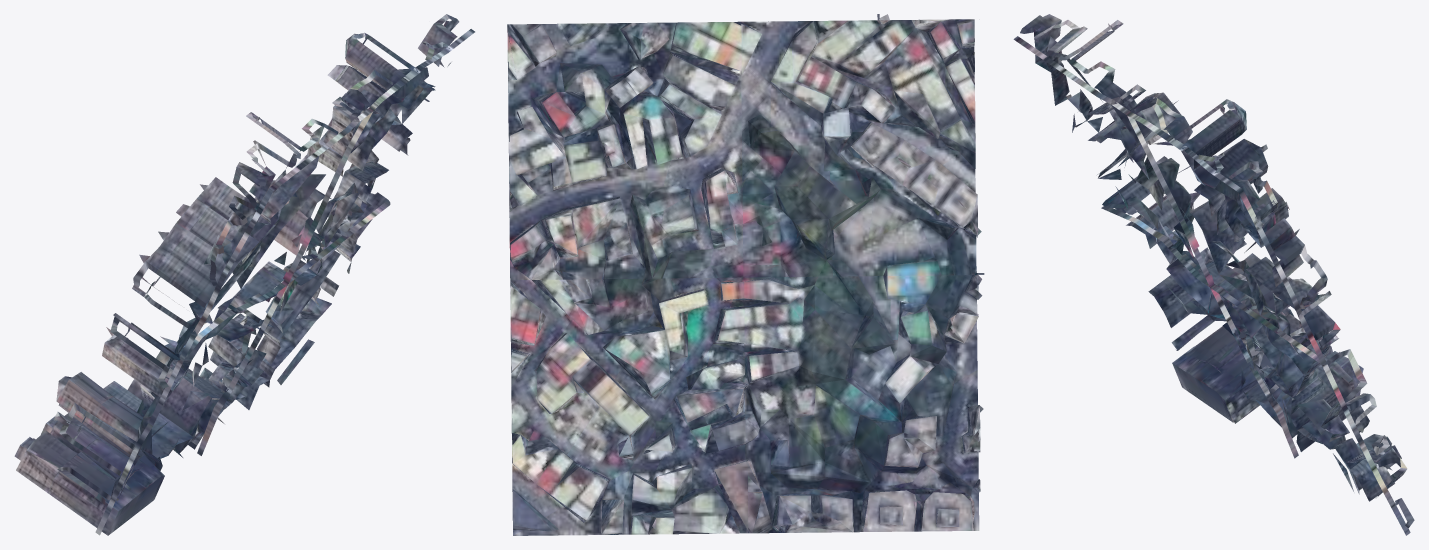
The picture shows the model from 3 angles, left to right: view 1: azimuth 30°, elevation 25°; view 2: azimuth 150°, elevation 25°; view 3: azimuth 270°, elevation 25°; orthographic projection. The views are drawn at different scales.
Size of the model in its own units: 333 by 302 by 260.
Materials: 2 (2 with a texture image).
